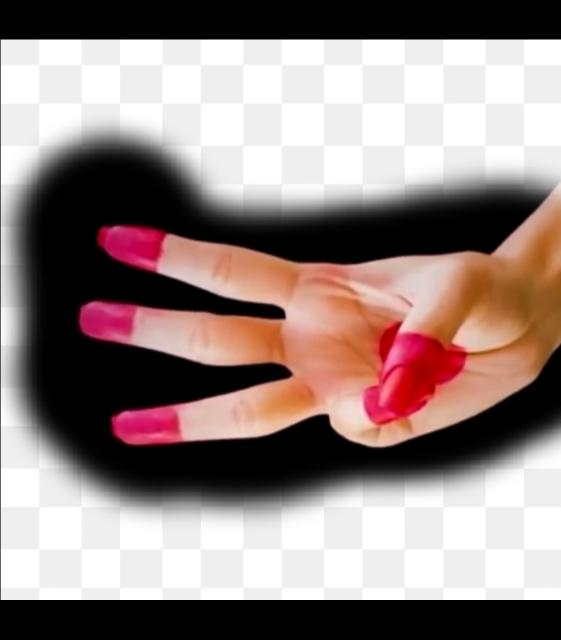trishool: (75, 226, 548, 450)
